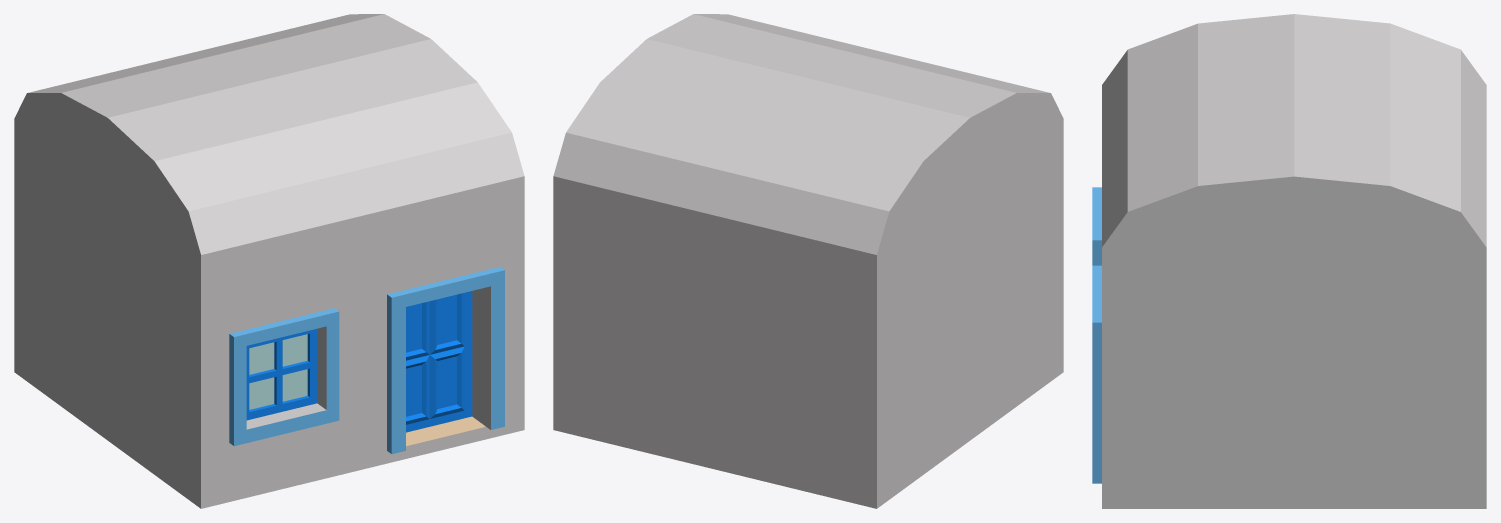
Rendered from house_01b.fbx.
3 renders of one model, left to right at view 1: azimuth 30°, elevation 25°; view 2: azimuth 150°, elevation 25°; view 3: azimuth 270°, elevation 25°, orthographic. The views are drawn at different scales.
Parts seen in each view (by area): view 1: house_01b; view 2: house_01b; view 3: house_01b.
Part boxes in pixels (x1=…): house_01b: x1=14, y1=14, x2=524, y2=508; house_01b: x1=553, y1=14, x2=1063, y2=508; house_01b: x1=1092, y1=14, x2=1486, y2=508.
Bounding box in the file's own units: 400 × 381 × 410.
